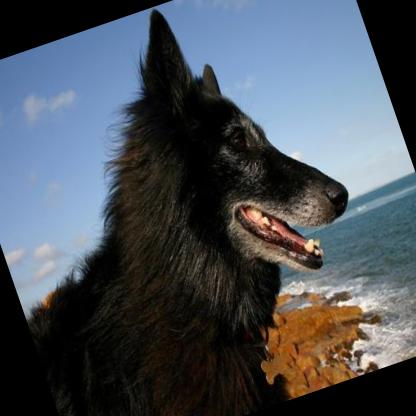groenendael: (0, 0, 403, 416)
